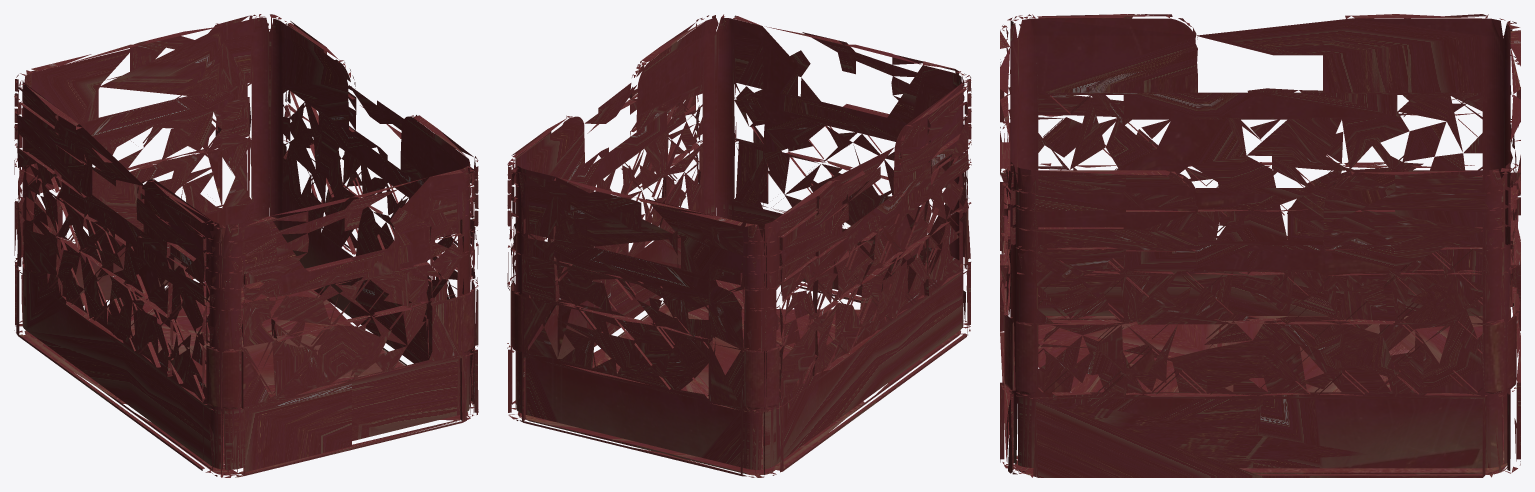
The model's file is PlasticCrate.obj.
3 renders of one model, left to right at view 1: azimuth 30°, elevation 25°; view 2: azimuth 150°, elevation 25°; view 3: azimuth 270°, elevation 25°, orthographic. The views are drawn at different scales.
Parts seen in each view (by area): view 1: part0; view 2: part0; view 3: part0.
Part boxes in pixels (x1,y1,x2,y2): part0: (14,14,478,477); part0: (507,14,971,477); part0: (1000,14,1520,477).
Size of the model in its own units: 0.298 by 0.2642 by 0.408.
Materials: 1 (1 with a texture image).
